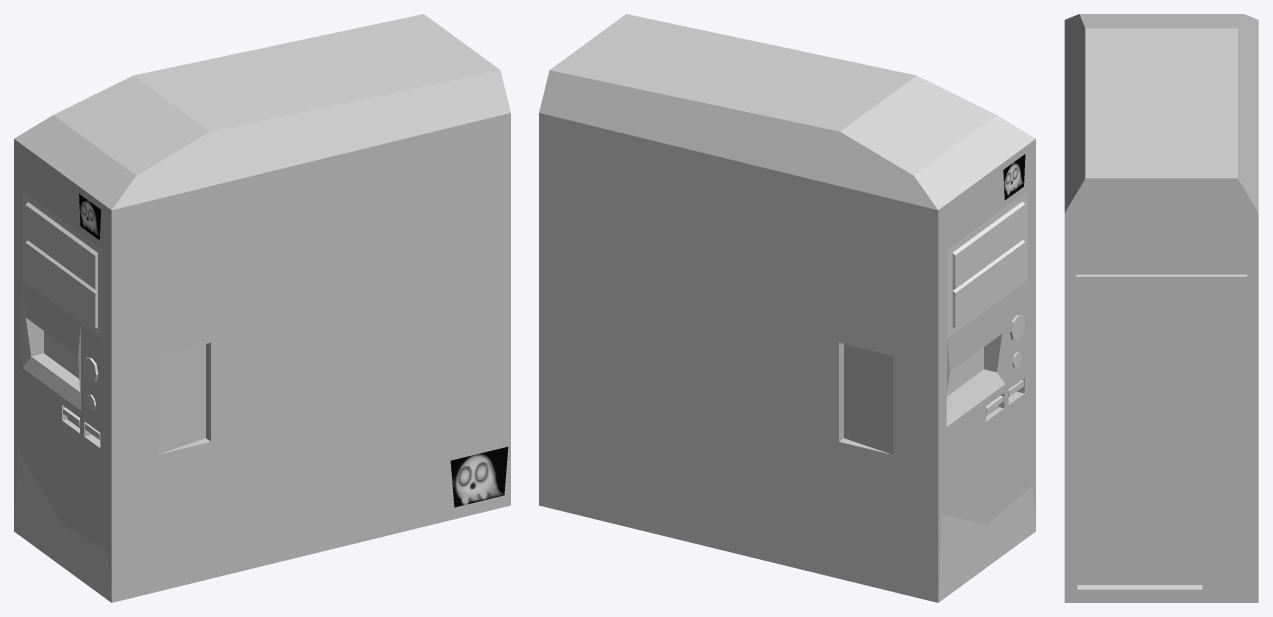
The model's file is Case.fbx.
3 views of the same model, side by side, from view 1: azimuth 30°, elevation 25°; view 2: azimuth 150°, elevation 25°; view 3: azimuth 270°, elevation 25° (orthographic).
Parts seen in each view (by area): view 1: ComputerCase; view 2: ComputerCase; view 3: ComputerCase.
Part boxes in pixels (x1=…): ComputerCase: x1=14, y1=14, x2=510, y2=602; ComputerCase: x1=539, y1=14, x2=1035, y2=602; ComputerCase: x1=1064, y1=14, x2=1258, y2=602.
Bounding box in the file's own units: 201 × 209 × 84.88.
